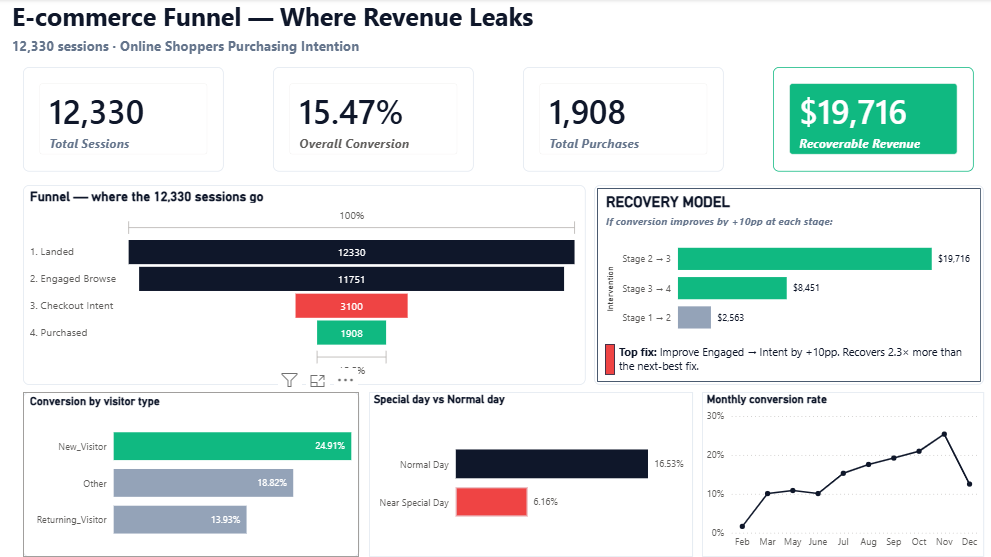

Layout of this report page (visuals, bound fields, positions):
{"tool":"powerbi","page":{"name":"Executive Overview","canvas":[1280,720],"ordinal":0},"visuals":[{"type":"textbox","title":"E-commerce Funnel — Where Revenue Leaks","box":[9.9,0,1260,72.3],"z":0},{"type":"cardVisual","fields":{"Data":["sessions.Total Sessions"]},"box":[29.8,87.9,259.4,134.6],"z":1000},{"type":"cardVisual","fields":{"Data":["sessions.Overall Conversion"]},"box":[352.4,87.9,259.4,134.6],"z":2000},{"type":"cardVisual","fields":{"Data":["sessions.Total Purchases"]},"box":[675.1,87.9,259.4,134.6],"z":3000},{"type":"cardVisual","fields":{"Data":["sessions.Recoverable Revenue Stage 2to3"]},"box":[997.8,87.9,259.4,134.6],"z":4000},{"type":"funnel","title":"Funnel — where the 12,330 sessions go","fields":{"Category":["FunnelStages.Stage"],"Y":["Sum(FunnelStages.Count)"]},"box":[29.8,239.5,725.7,258],"z":5000},{"type":"shape","box":[766.8,239.5,503.1,258],"z":6000},{"type":"textbox","title":"RECOVERY MODEL","box":[776.7,250.9,480.5,53.9],"z":7000},{"type":"clusteredBarChart","fields":{"Category":["RecoveryModel.Intervention"],"Y":["Sum(RecoveryModel.Recoverable)"]},"box":[776.7,293.4,480.5,163],"z":8000},{"type":"textbox","box":[793.7,439.4,463.5,49.6],"z":9000},{"type":"shape","box":[780.9,445,12.8,39.7],"z":10000},{"type":"clusteredBarChart","title":"Conversion by visitor type","fields":{"Category":["sessions.VisitorType"],"Y":["sessions.Overall Conversion"]},"box":[29.8,507.4,433.7,212.6],"z":11000},{"type":"clusteredBarChart","title":"Special day vs Normal day","fields":{"Category":["sessions.SpecialDayCategory"],"Y":["sessions.Overall Conversion"]},"box":[475.5,507.4,418.1,212.6],"z":12000},{"type":"lineChart","title":"Monthly conversion rate","fields":{"Category":["sessions.Month"],"Y":["sessions.Overall Conversion"]},"box":[905.7,507.4,364.3,212.6],"z":13000},{"type":"lineChart","title":"Monthly conversion rate","fields":{"Category":["MonthDim.MonthName"],"Y":["sessions.Overall Conversion"]},"box":[905.7,507.4,364.3,212.6],"z":14000}]}

Visuals, with their boxes in screenshot pixels (x1, y1, x2, y2), scaled from the page's 1280x720 canvas onto the 991x557 screenshot:
"E-commerce Funnel — Where Revenue Leaks" textbox: [left=8, top=0, right=983, bottom=56]
cardVisual - sessions.Total Sessions: [left=23, top=68, right=224, bottom=172]
cardVisual - sessions.Overall Conversion: [left=273, top=68, right=474, bottom=172]
cardVisual - sessions.Total Purchases: [left=523, top=68, right=724, bottom=172]
cardVisual - sessions.Recoverable Revenue Stage 2to3: [left=773, top=68, right=973, bottom=172]
"Funnel — where the 12,330 sessions go" funnel: [left=23, top=185, right=585, bottom=385]
shape: [left=594, top=185, right=983, bottom=385]
"RECOVERY MODEL" textbox: [left=601, top=194, right=973, bottom=236]
clusteredBarChart - RecoveryModel.Intervention x Sum(RecoveryModel.Recoverable): [left=601, top=227, right=973, bottom=353]
textbox: [left=614, top=340, right=973, bottom=378]
shape: [left=605, top=344, right=614, bottom=375]
"Conversion by visitor type" clusteredBarChart: [left=23, top=393, right=359, bottom=556]
"Special day vs Normal day" clusteredBarChart: [left=368, top=393, right=692, bottom=556]
"Monthly conversion rate" lineChart: [left=701, top=393, right=983, bottom=556]
"Monthly conversion rate" lineChart: [left=701, top=393, right=983, bottom=556]
